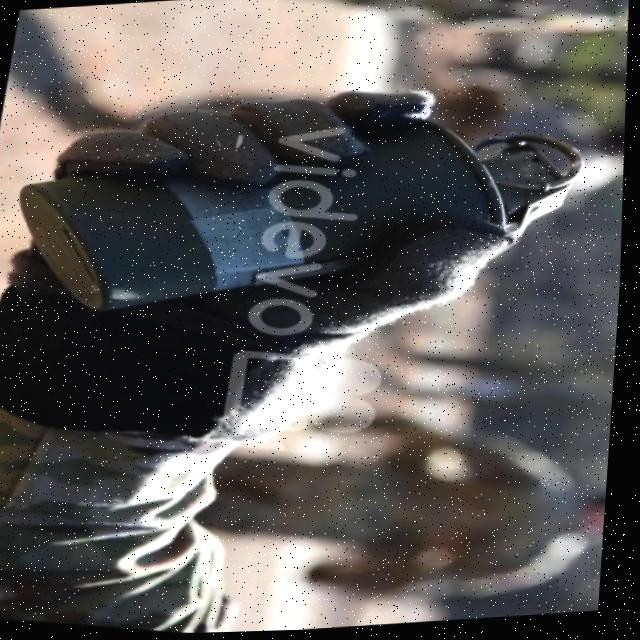grenade: (0, 46, 607, 378)
